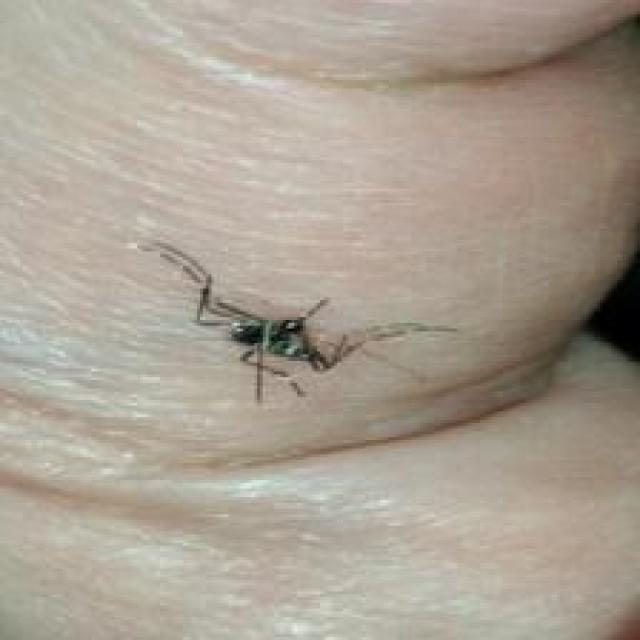Aedes albopictus: (134, 237, 457, 406)
